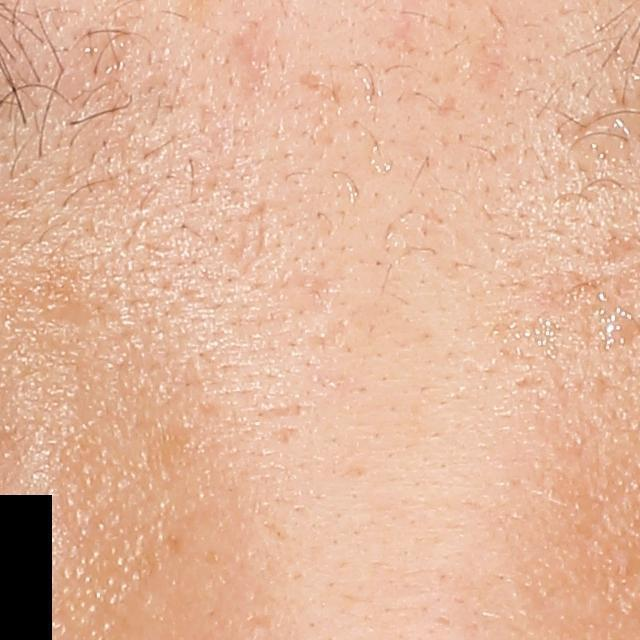atrophic_scar: (222, 22, 270, 99), (228, 205, 263, 271), (300, 66, 334, 91), (430, 90, 462, 116)
